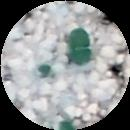Basil: (69, 27, 94, 69)
